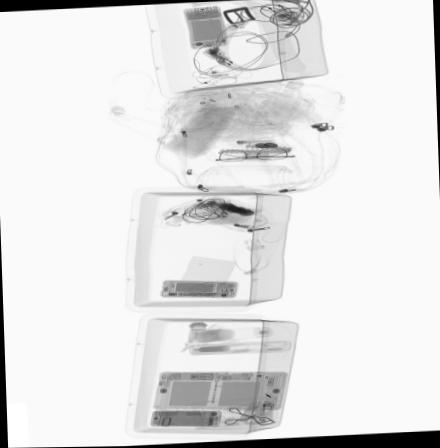Lighter: (260, 402, 273, 423)
